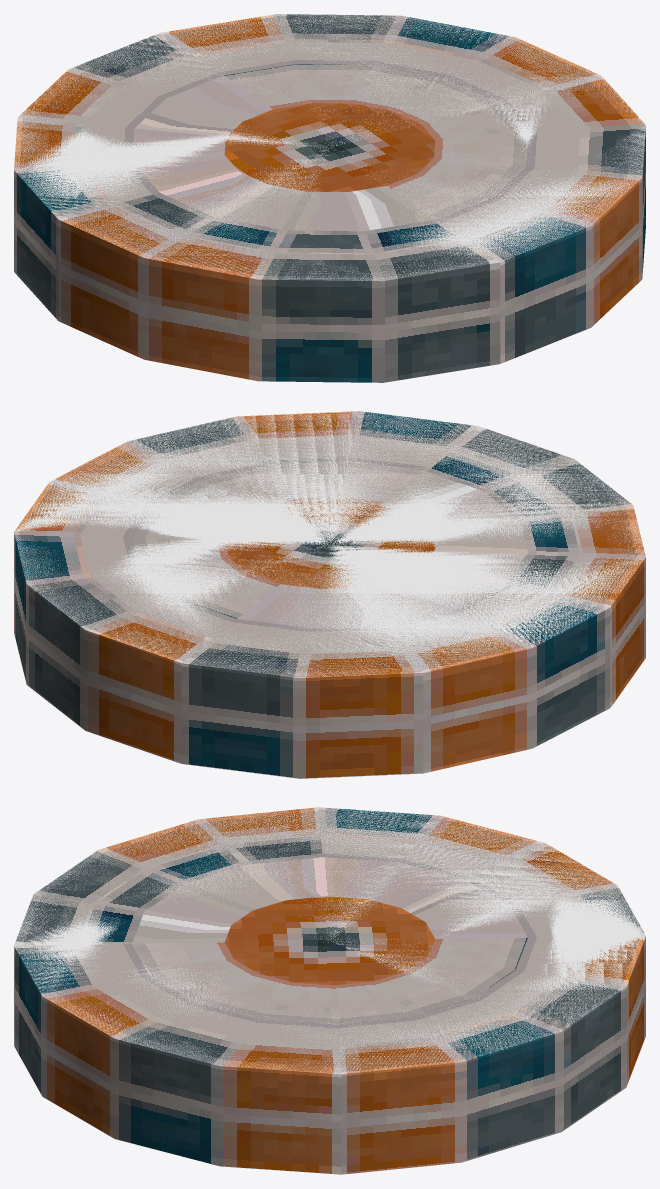
The model's file is objects_un_t09watersource01.gltf.
3 renders of one model, top to bottom at view 1: azimuth 30°, elevation 25°; view 2: azimuth 150°, elevation 25°; view 3: azimuth 270°, elevation 25°, orthographic.
Visible parts, largest first — view 1: um_objects_un_t09watersource01_model_lod0Shape:objects_un_t0 (×2); view 2: um_objects_un_t09watersource01_model_lod0Shape:objects_un_t0 (×2); view 3: um_objects_un_t09watersource01_model_lod0Shape:objects_un_t0 (×2).
Part boxes in pixels (x1,y1,x2,y2): um_objects_un_t09watersource01_model_lod0Shape:objects_un_t0 (×2): [14, 14, 645, 382]; um_objects_un_t09watersource01_model_lod0Shape:objects_un_t0 (×2): [14, 411, 645, 778]; um_objects_un_t09watersource01_model_lod0Shape:objects_un_t0 (×2): [14, 807, 645, 1174].
Size of what is drawn, in the model's own units: 1.38 by 0.2424 by 1.38.
Materials: 2 (1 with a texture image).
